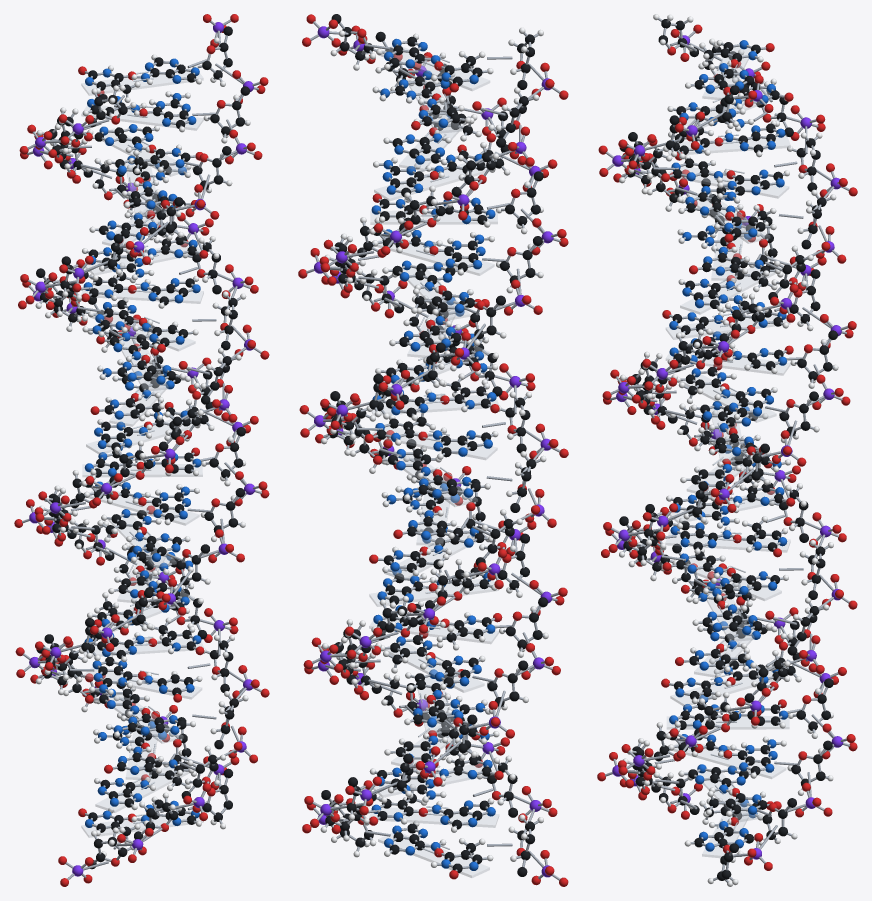
Rendered from adn_helix_only.glb.
3 views of the same model, side by side, from view 1: azimuth 30°, elevation 25°; view 2: azimuth 150°, elevation 25°; view 3: azimuth 270°, elevation 25° (orthographic). The views are drawn at different scales.
Parts seen in each view (by area): view 1: Deoksiriboze (×26), Pllakat_Stabilizuese, Baza_G (×11), Baza_A (×10), Baza_T (×10), Baza_C (×9), Lidhjet_Fosfodiesterike; view 2: Deoksiriboze (×32), Pllakat_Stabilizuese, Baza_G (×11), Baza_A (×11), Baza_T (×11), Baza_C (×9), Lidhjet_Fosfodiesterike; view 3: Deoksiriboze (×29), Pllakat_Stabilizuese, Baza_A (×11), Baza_T (×11), Baza_G (×11), Baza_C (×10), Lidhjet_Fosfodiesterike.
Part boxes in pixels (x1,y1,x2,y2): Deoksiriboze (×26): [44, 26, 250, 869]; Pllakat_Stabilizuese: [81, 68, 203, 837]; Baza_G (×11): [82, 91, 199, 748]; Baza_A (×10): [84, 54, 201, 826]; Baza_T (×10): [78, 65, 204, 843]; Baza_C (×9): [85, 180, 208, 774]; Lidhjet_Fosfodiesterike: [37, 63, 246, 846]; Deoksiriboze (×32): [320, 14, 548, 876]; Pllakat_Stabilizuese: [369, 46, 498, 877]; Baza_G (×11): [369, 70, 499, 802]; Baza_A (×11): [371, 33, 498, 856]; Baza_T (×11): [364, 51, 502, 879]; Baza_C (×9): [373, 97, 503, 780]; Lidhjet_Fosfodiesterike: [323, 45, 544, 833]; Deoksiriboze (×29): [619, 14, 838, 886]; Pllakat_Stabilizuese: [665, 47, 790, 857]; Baza_A (×11): [670, 60, 785, 851]; Baza_T (×11): [668, 40, 787, 825]; Baza_G (×11): [666, 102, 790, 778]; Baza_C (×10): [661, 78, 795, 728]; Lidhjet_Fosfodiesterike: [621, 43, 834, 849].
Size of the model in its own units: 3.57 by 12.38 by 3.56.
